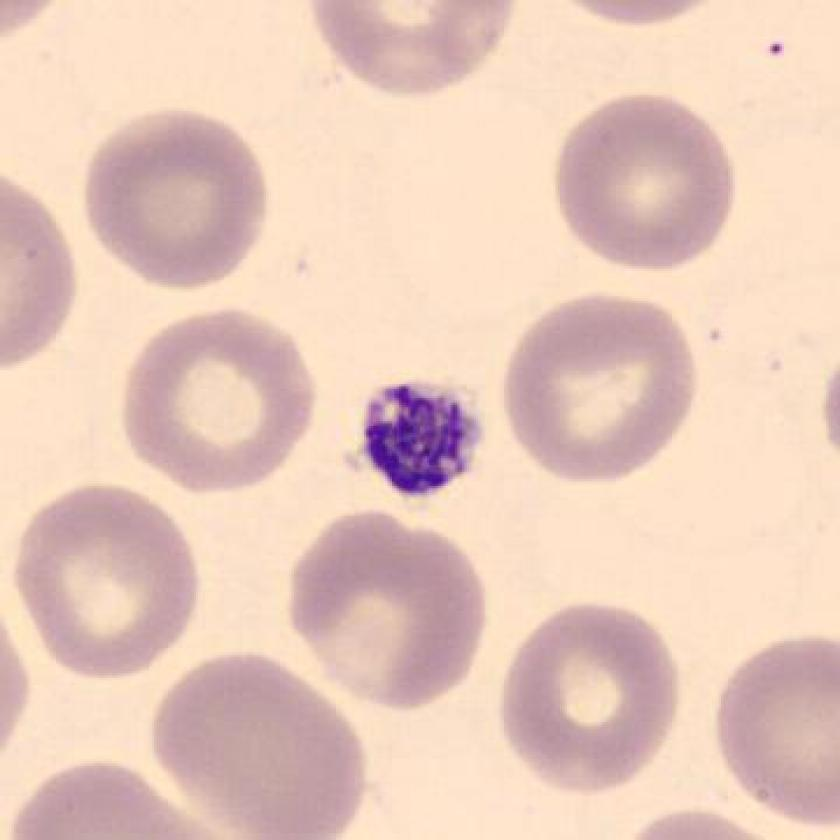platelets: (358, 378, 489, 508)
